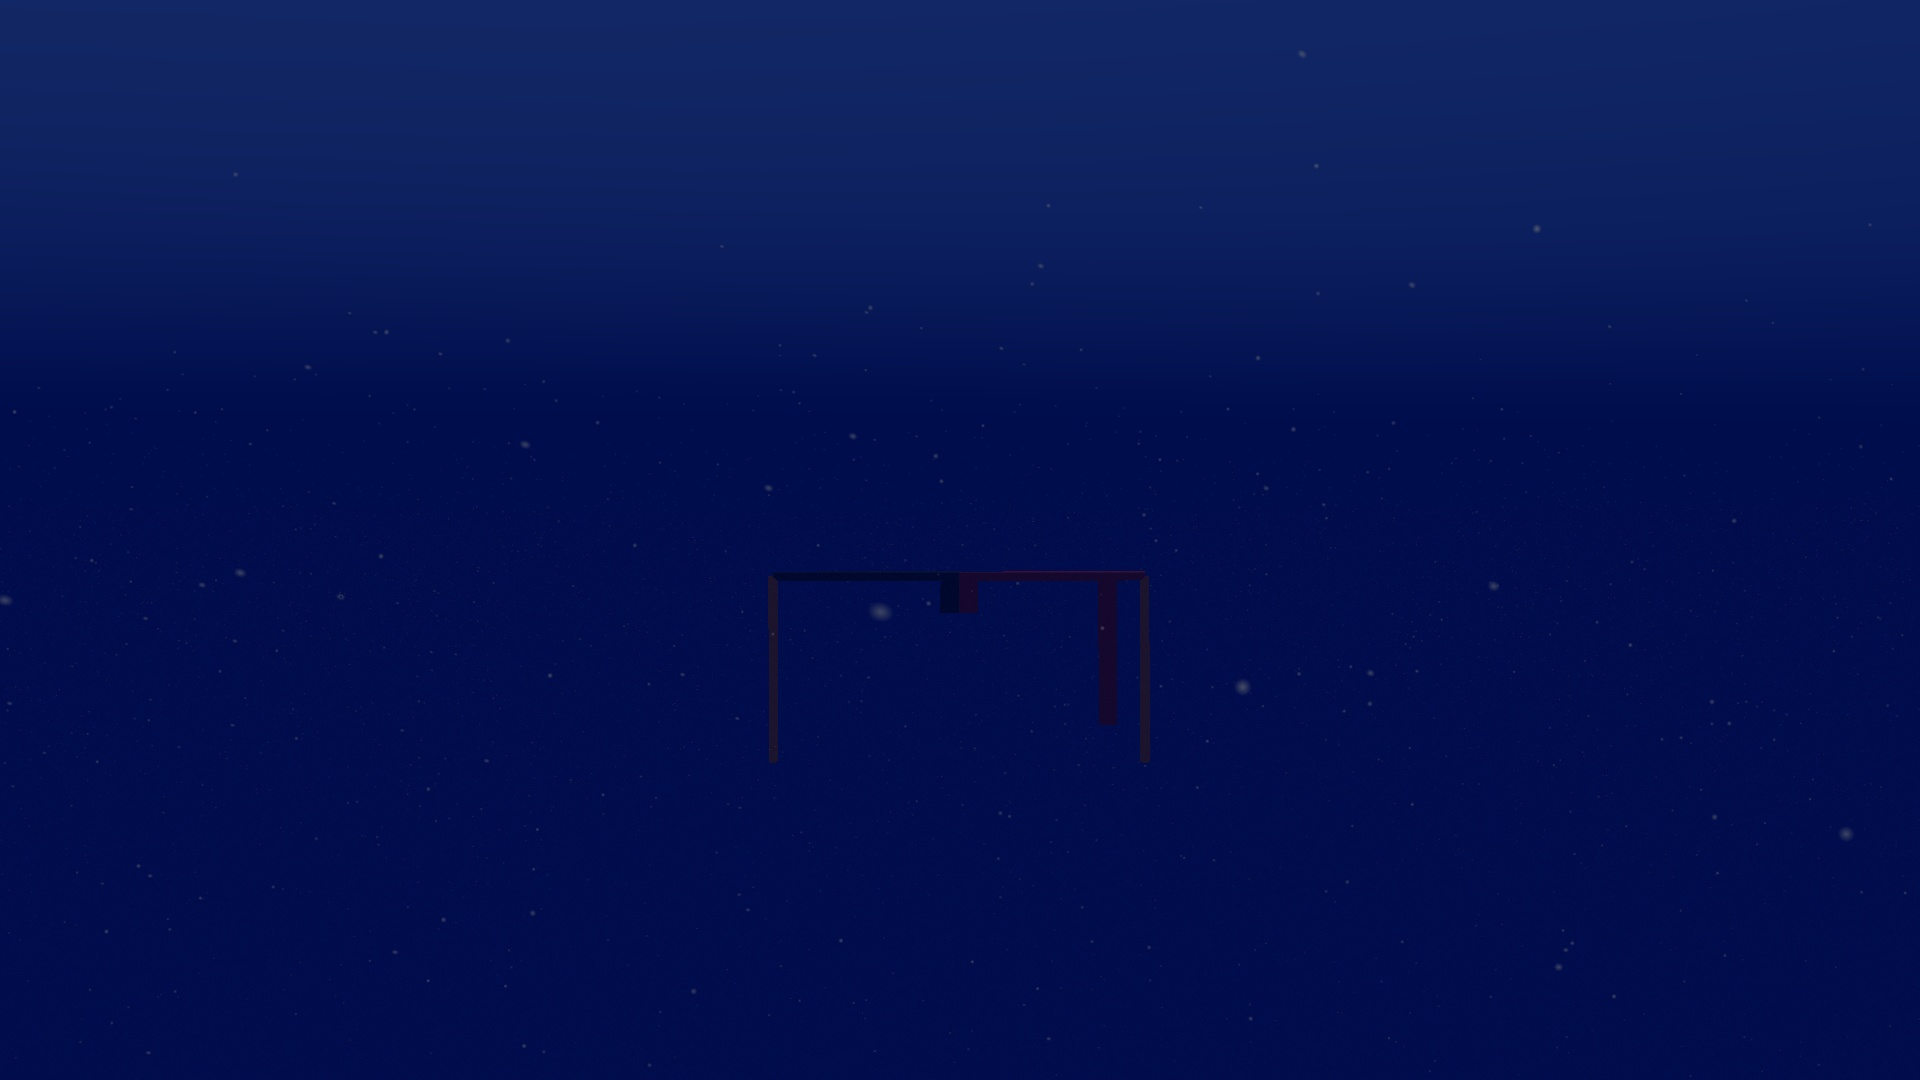Gate: (760, 564, 1156, 785)
